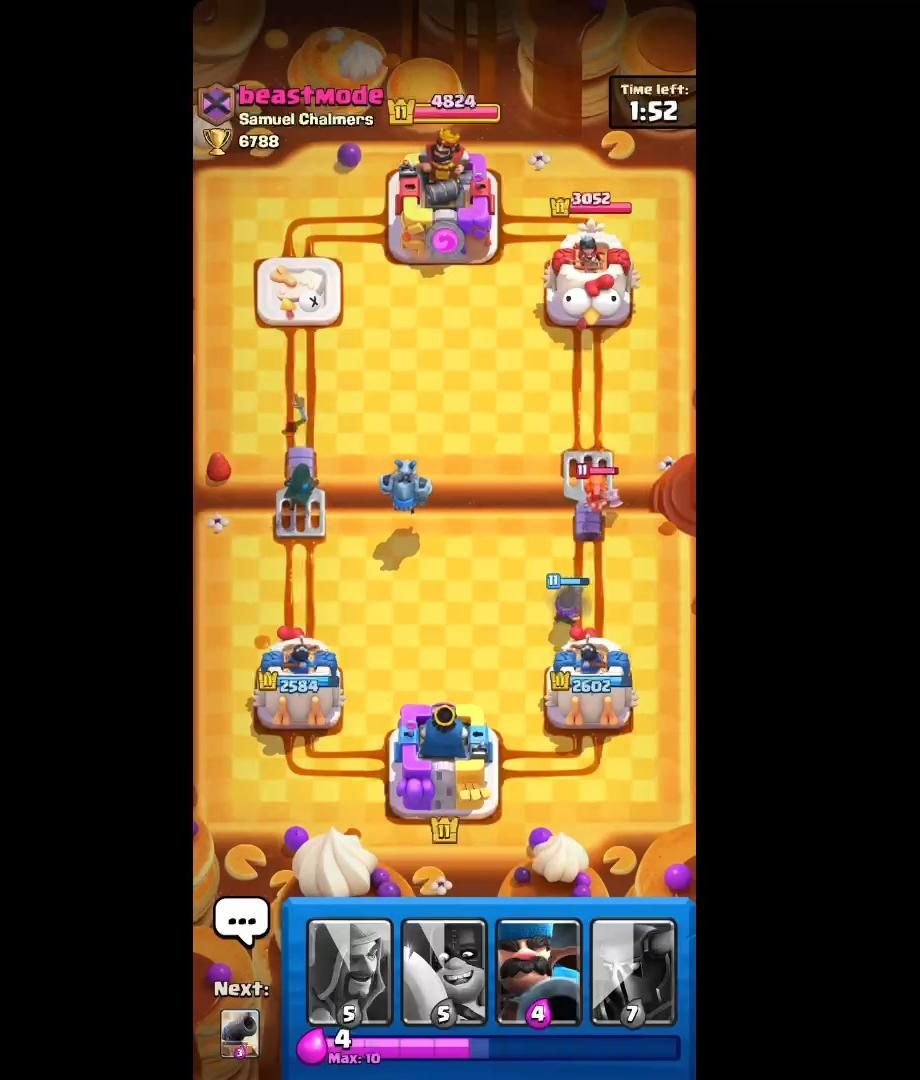Valkyrie: (577, 455, 623, 530)
